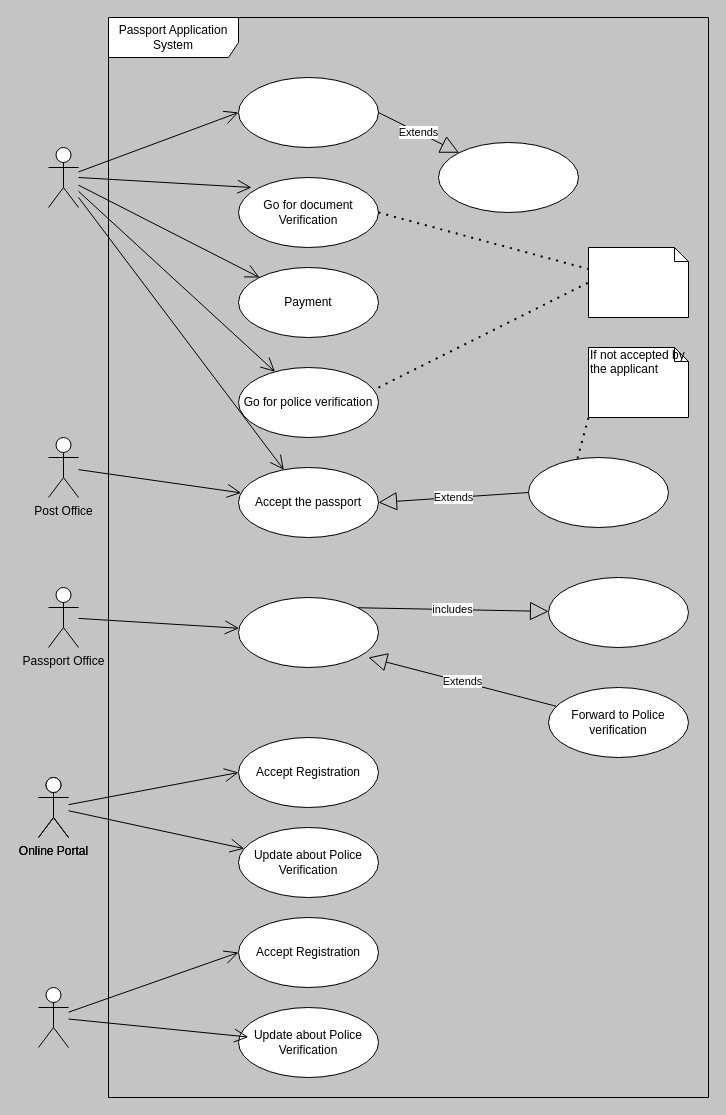
Some shapes in this 726 by 1115 pixel diagram are drawn without their labels. Each missing label, with the centre of its shape:
"Applicant" belongs at point (63, 177).
"Click fresh photo" belongs at point (618, 612).
"Fill online form" belongs at point (308, 112).
"Police Station" belongs at point (53, 1017).
"Return the passport" belongs at point (598, 492).
"Take appointment Date" belongs at point (508, 177).
"This is done manually. The system does not play any part in it." belongs at point (638, 282).
"Verify the documents" belongs at point (308, 632).
